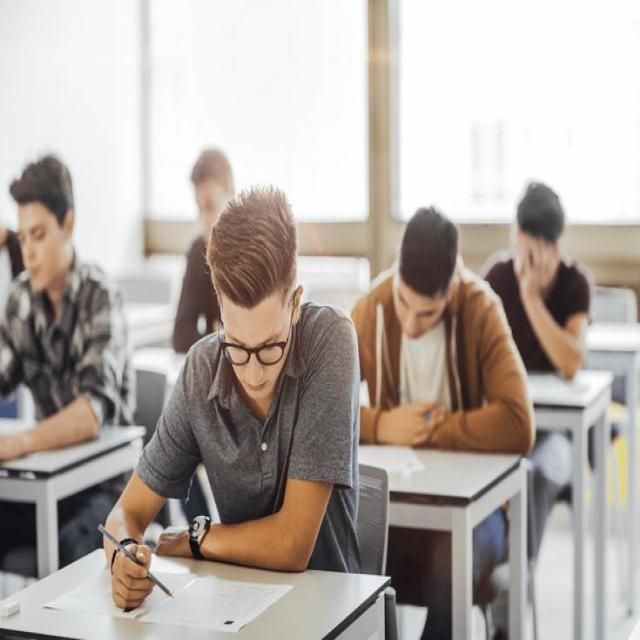9_cabeza_baja: (393, 208, 458, 339)
